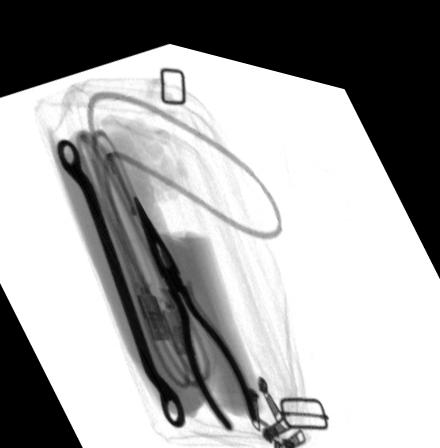Pliers: (131, 187, 261, 418)
Wrench: (54, 134, 186, 419)
